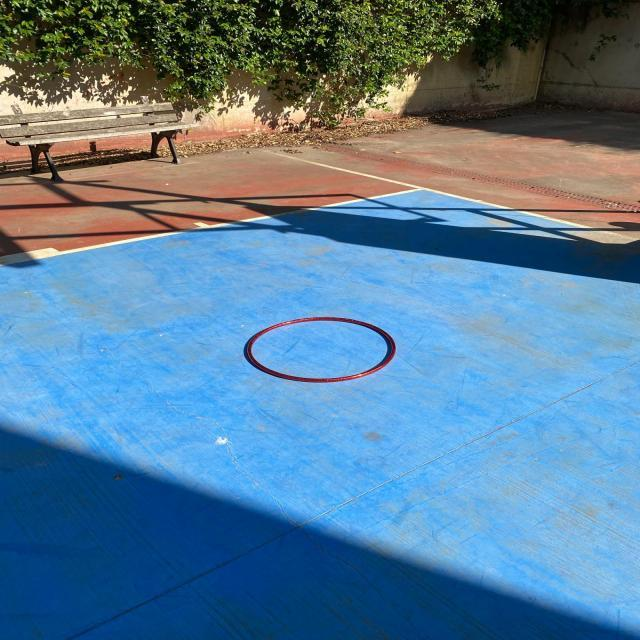Circle: (240, 315, 397, 383)
